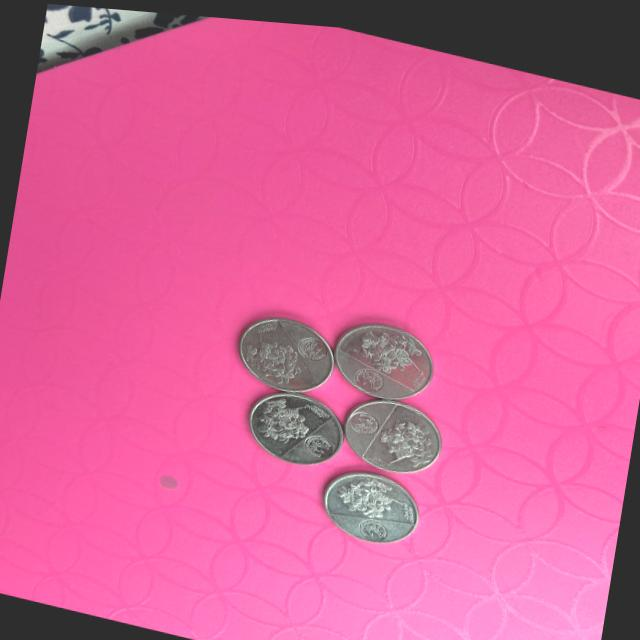1_New_Back: (351, 316, 420, 375), (252, 388, 317, 447), (334, 462, 402, 517), (235, 323, 303, 376), (382, 409, 434, 461)
